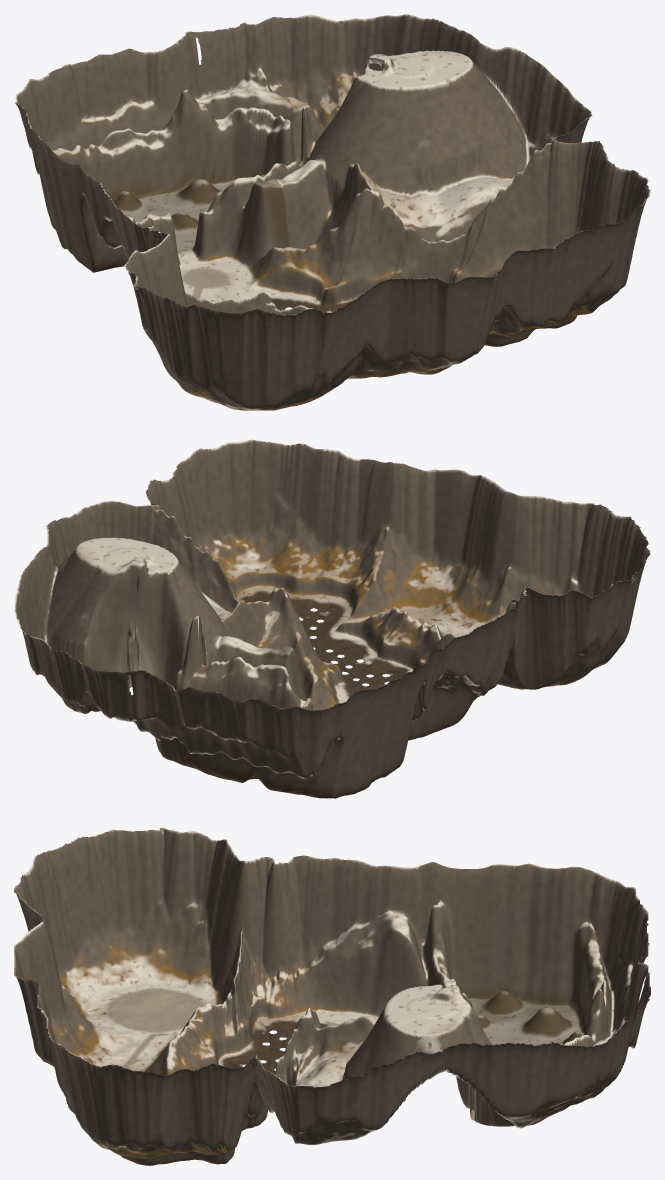
The model's file is Terreno.glb.
The picture shows the model from 3 angles, top to bottom: view 1: azimuth 30°, elevation 25°; view 2: azimuth 150°, elevation 25°; view 3: azimuth 270°, elevation 25°; orthographic projection. The views are drawn at different scales.
Parts seen in each view (by area): view 1: Terreno; view 2: Terreno; view 3: Terreno.
Boxes of the visible parts, x1,y1,x2,y2 form: Terreno: (14, 14, 650, 410); Terreno: (14, 439, 650, 798); Terreno: (14, 827, 650, 1165).
Size of the model in its own units: 387 by 111 by 404.
1 material, 1 textured.
